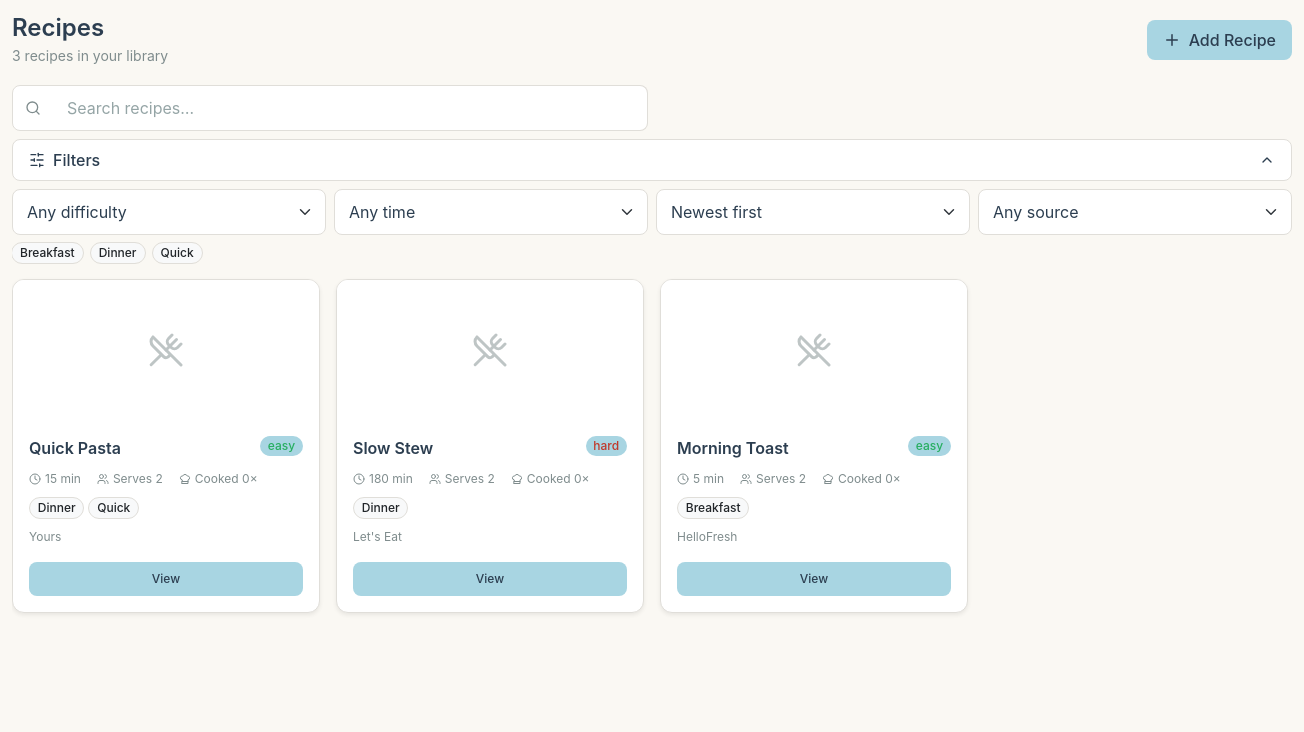
RecipeList › filters › filters by difficulty
Select "hard" in the dropdown named "Filter by difficulty" at (169, 212), box [12,189,326,235]
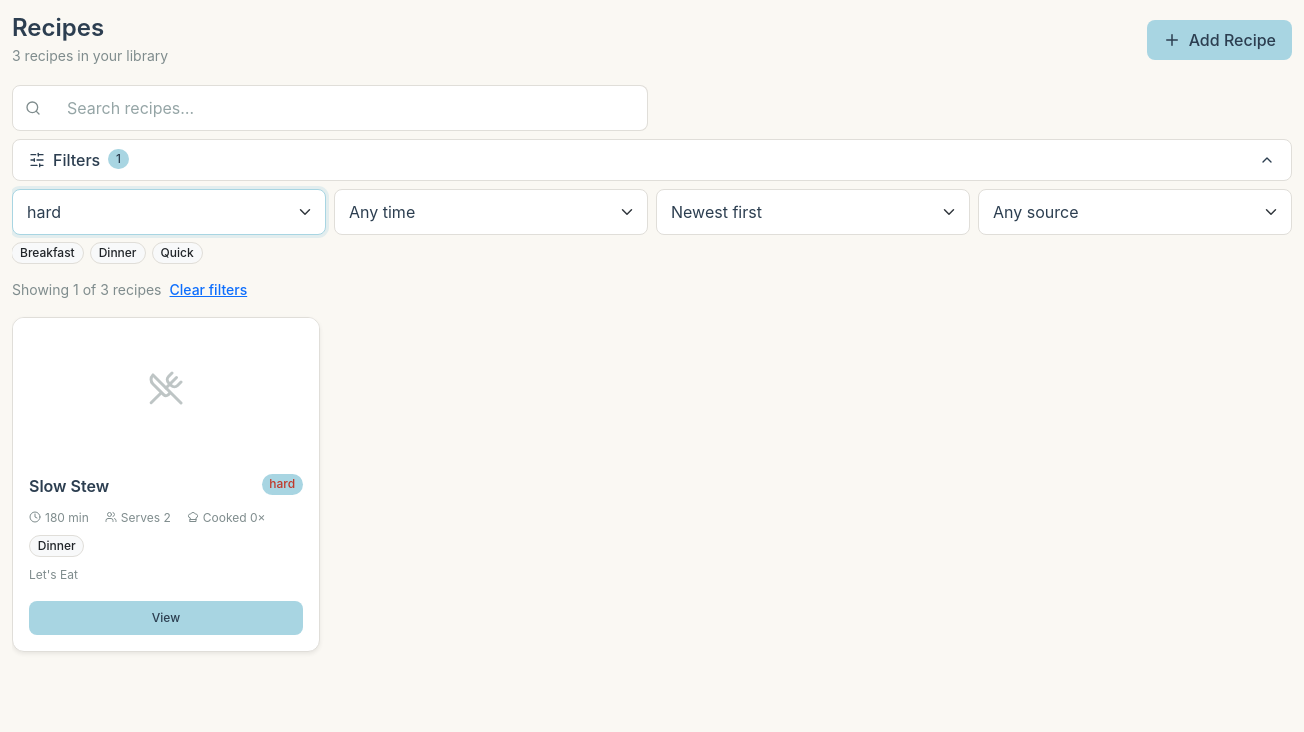
Expected: the text "Slow Stew" is shown, [29,474,109,500]
Result: the text "Quick Pasta" is gone
